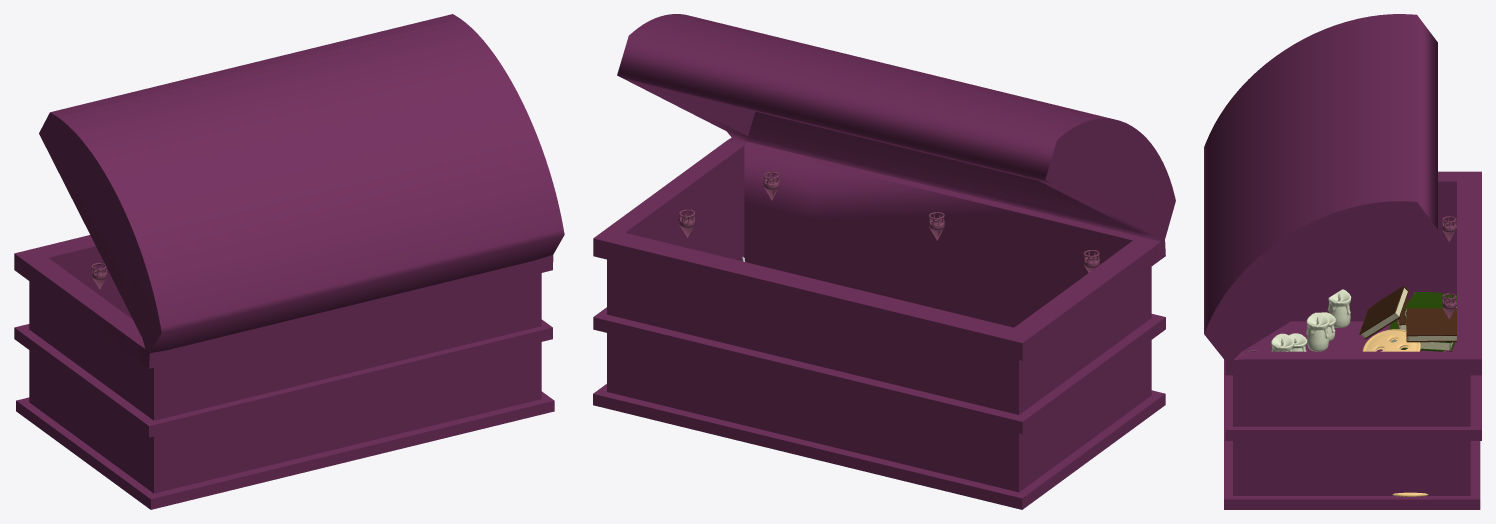
Rendered from escenario programacion 3.fbx.
3 renders of one model, left to right at view 1: azimuth 30°, elevation 25°; view 2: azimuth 150°, elevation 25°; view 3: azimuth 270°, elevation 25°, orthographic. The views are drawn at different scales.
Parts seen in each view (by area): view 1: Cubo; view 2: Cubo; view 3: Cubo, Cubo.005, Cubo.004, Sphere.010, Cilindro.001, Cilindro.004, Cubo.003, Cubo.001, Cilindro.005.
Boxes of the visible parts, left/top/right/bottom form: Cubo: left=14, top=14, right=564, bottom=509; Cubo: left=593, top=14, right=1175, bottom=509; Cubo: left=1204, top=14, right=1481, bottom=509; Cubo.005: left=1406, top=308, right=1456, bottom=342; Cubo.004: left=1359, top=285, right=1409, bottom=339; Sphere.010: left=1362, top=329, right=1420, bottom=351; Cilindro.001: left=1306, top=312, right=1329, bottom=351; Cilindro.004: left=1327, top=289, right=1351, bottom=327; Cubo.003: left=1404, top=292, right=1456, bottom=316; Cubo.001: left=1389, top=320, right=1454, bottom=351; Cilindro.005: left=1271, top=333, right=1293, bottom=351.
Bounding box in the file's own units: 1927 × 1474 × 1202.
Materials: 22 (3 with a texture image).
